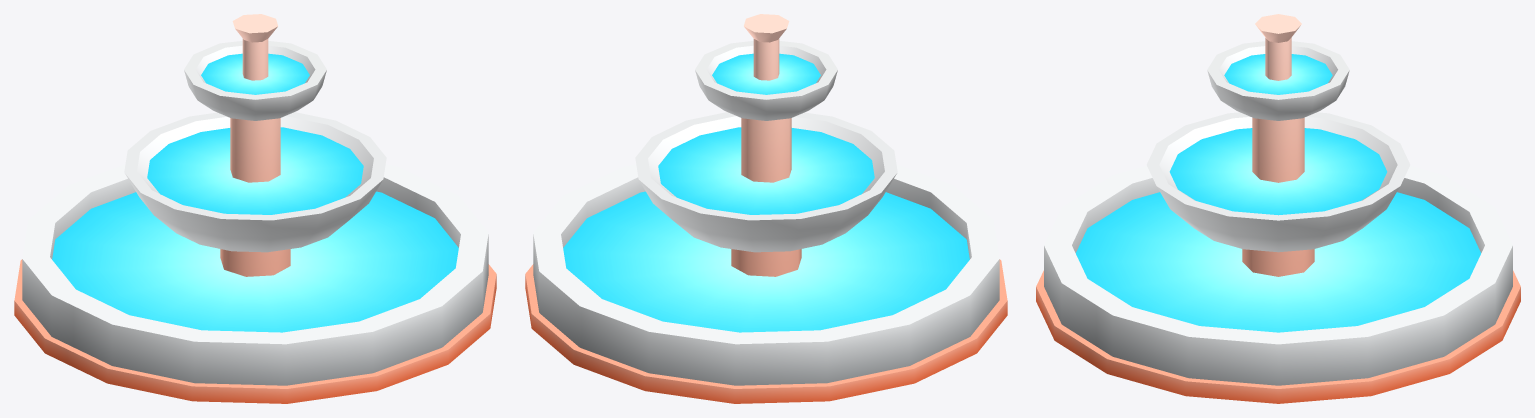
Rendered from city2-fountain-01.glb.
3 views of the same model, side by side, from view 1: azimuth 30°, elevation 25°; view 2: azimuth 150°, elevation 25°; view 3: azimuth 270°, elevation 25° (orthographic).
Visible parts, largest first — view 1: Fountain_01; view 2: Fountain_01; view 3: Fountain_01.
Part boxes in pixels (x1=…): Fountain_01: x1=14, y1=14, x2=496, y2=403; Fountain_01: x1=525, y1=14, x2=1007, y2=403; Fountain_01: x1=1036, y1=14, x2=1520, y2=403.
Size of the model in its own units: 5.88 by 3.72 by 5.88.
Materials: 1 (1 with a texture image).
